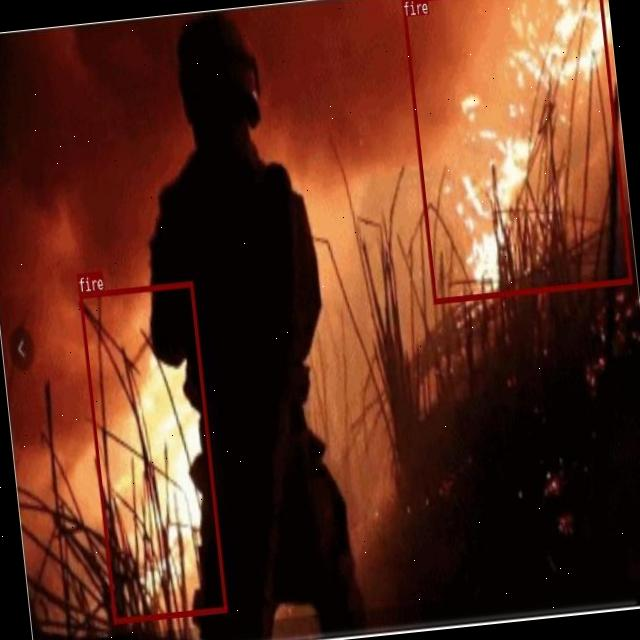fire: (400, 0, 630, 302), (78, 280, 227, 622)
